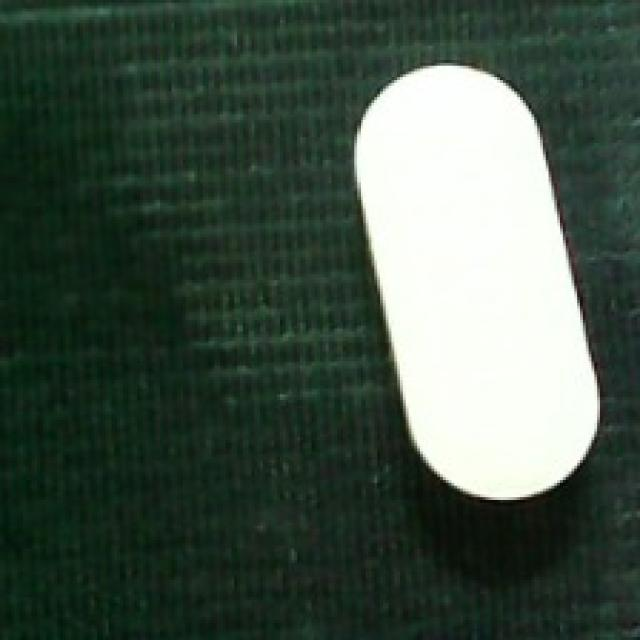no-defect: (347, 58, 604, 504)
